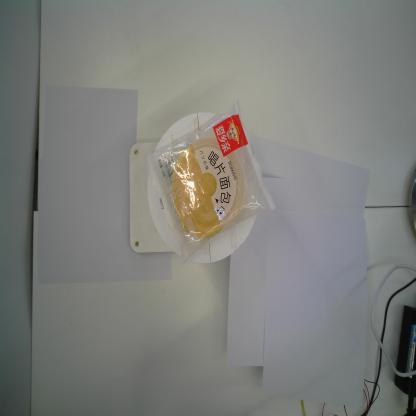Dessert: (143, 103, 276, 267)
